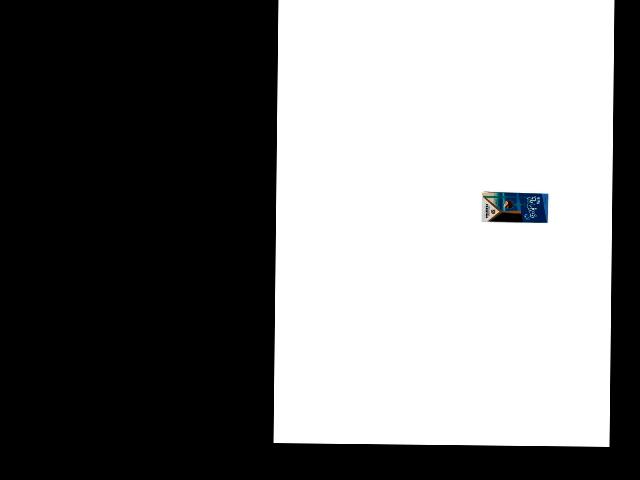chocolate: (479, 191, 549, 224)
